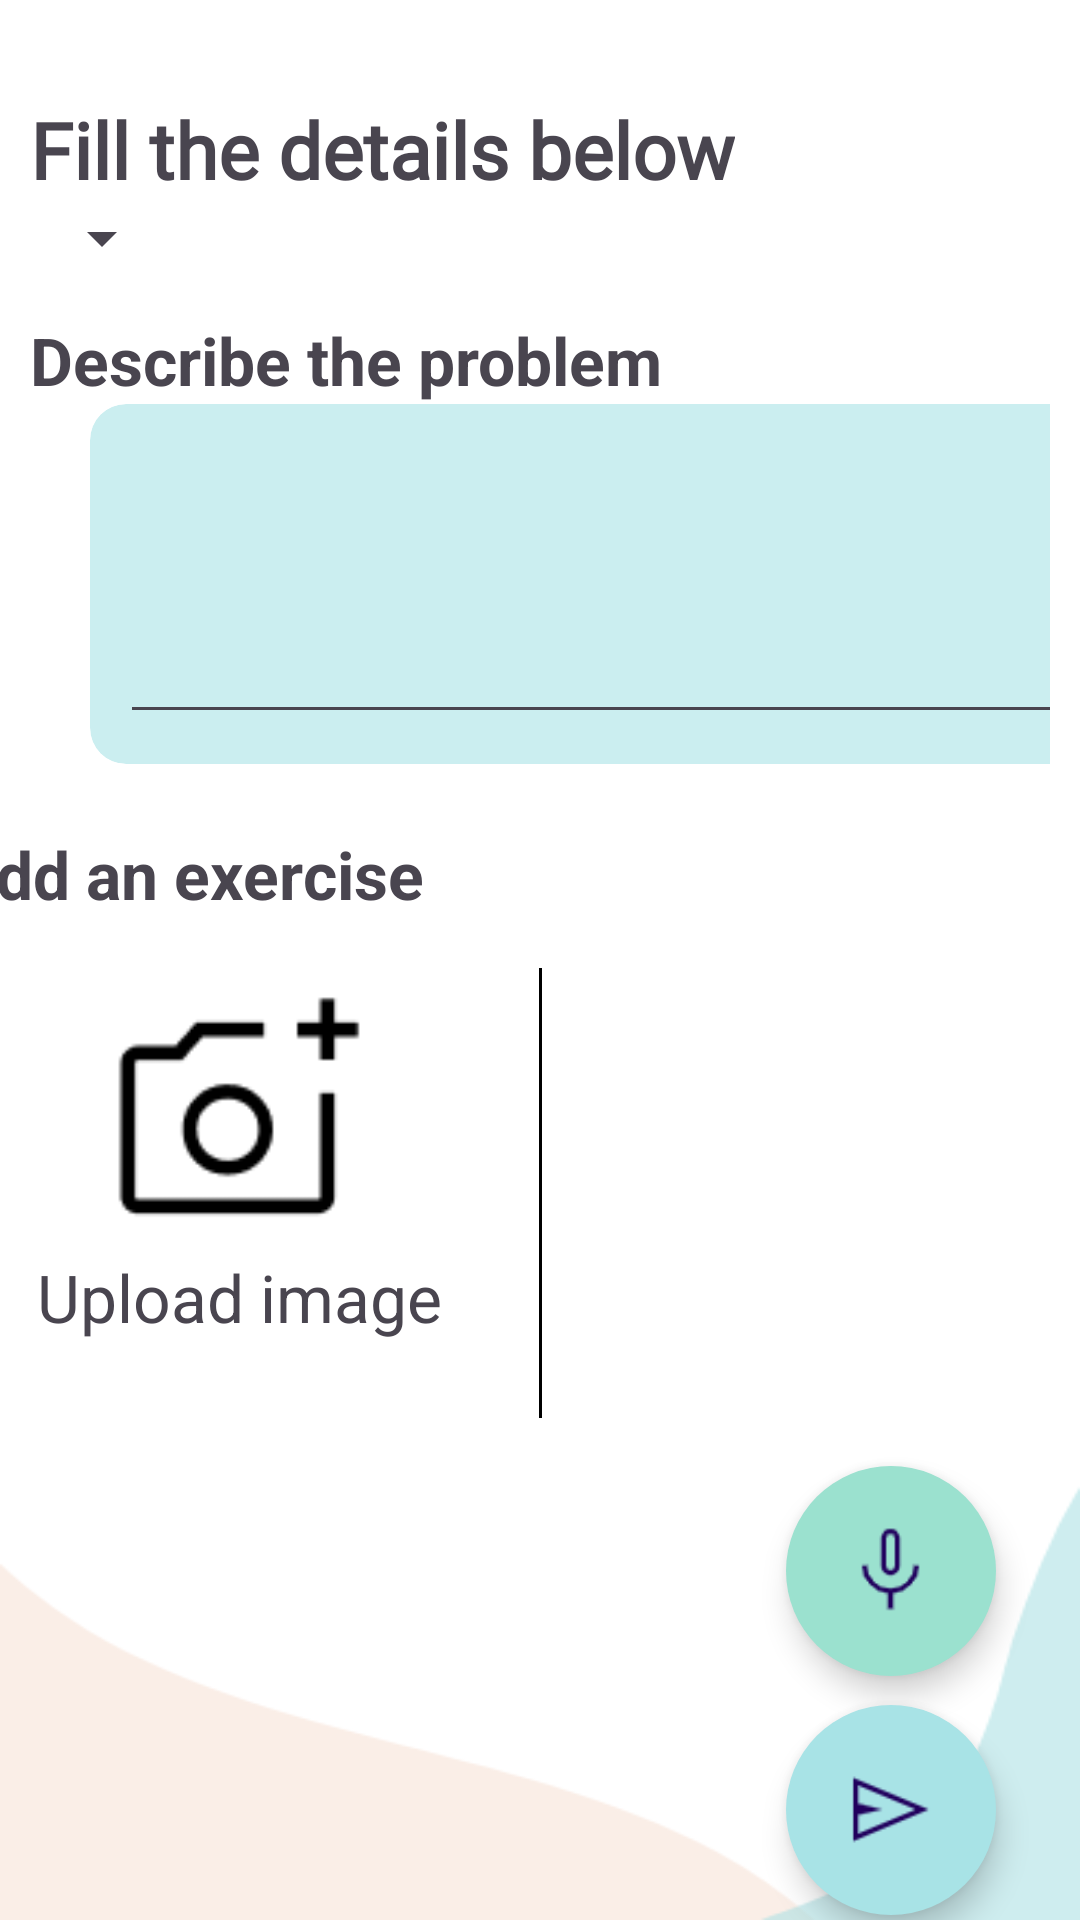

Where to tap for icons on this 1080px x 1920px app screen, as (x=x, y=y):
microphone: (x=891, y=1571)
send: (x=891, y=1810)
